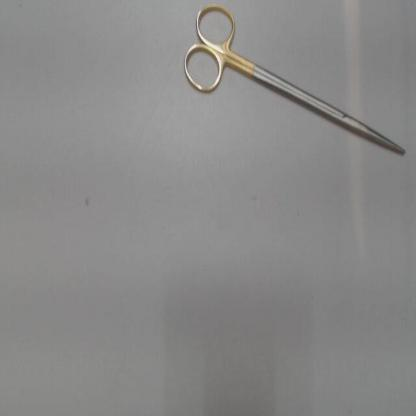7 Metzenbaum Scissors: (179, 1, 409, 162)
